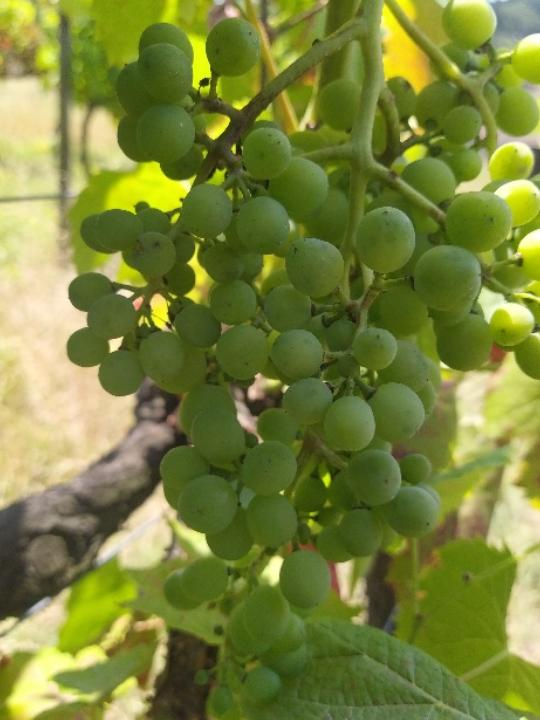grape: (62, 0, 540, 720)
